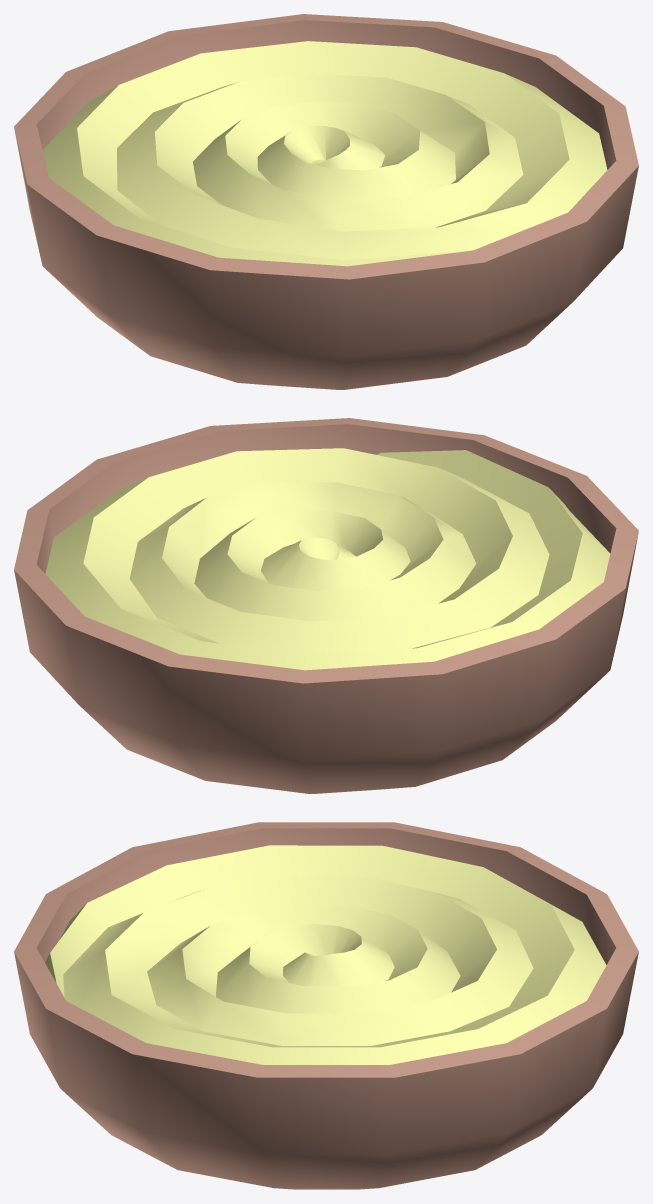
File: Bowl_Milky_geo.fbx
3 renders of one model, top to bottom at view 1: azimuth 30°, elevation 25°; view 2: azimuth 150°, elevation 25°; view 3: azimuth 270°, elevation 25°, orthographic.
Visible parts, largest first — view 1: Bowl_Milky_geo; view 2: Bowl_Milky_geo; view 3: Bowl_Milky_geo.
Part boxes in pixels (left/top/right/bottom): Bowl_Milky_geo: left=14, top=14, right=638, bottom=389; Bowl_Milky_geo: left=14, top=418, right=638, bottom=793; Bowl_Milky_geo: left=14, top=822, right=638, bottom=1189.
Size of the model in its own units: 0.6251 by 0.6467 by 0.2231.
